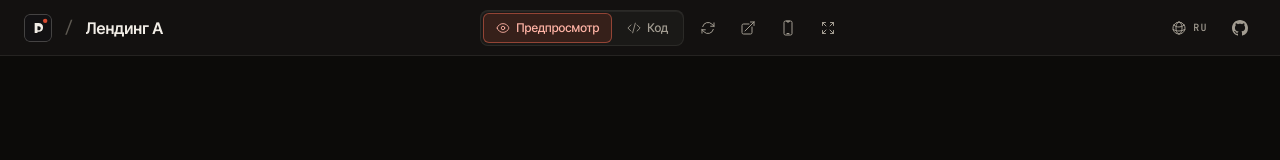
Test: Topbar › cancels rename on Escape without saving
This screenshot has width=1280, height=160.
Click the button "Лендинг A".
click(124, 28)  # box [86, 16, 163, 40]
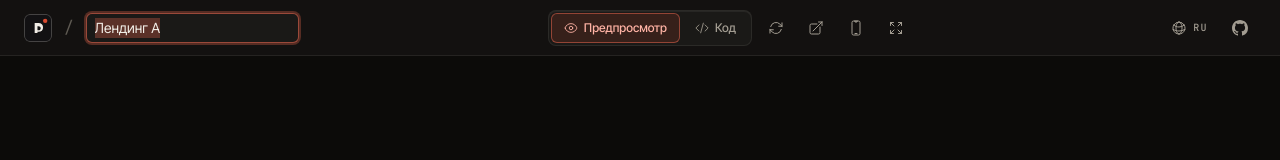
Replace the text in the field named "Переименовать проект" with "Не сохранять" at {"x": 192, "y": 28}, box [86, 13, 299, 43]
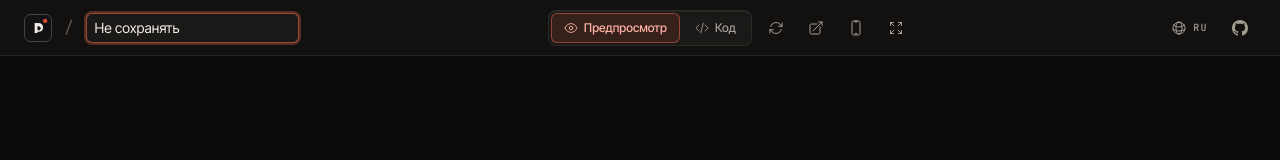
Press Escape
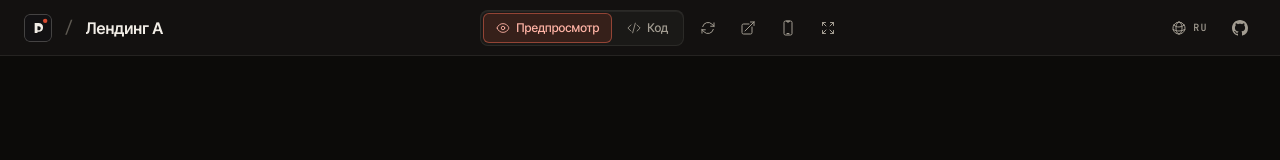
Now the button "Лендинг A" is shown, box [86, 16, 163, 40]
